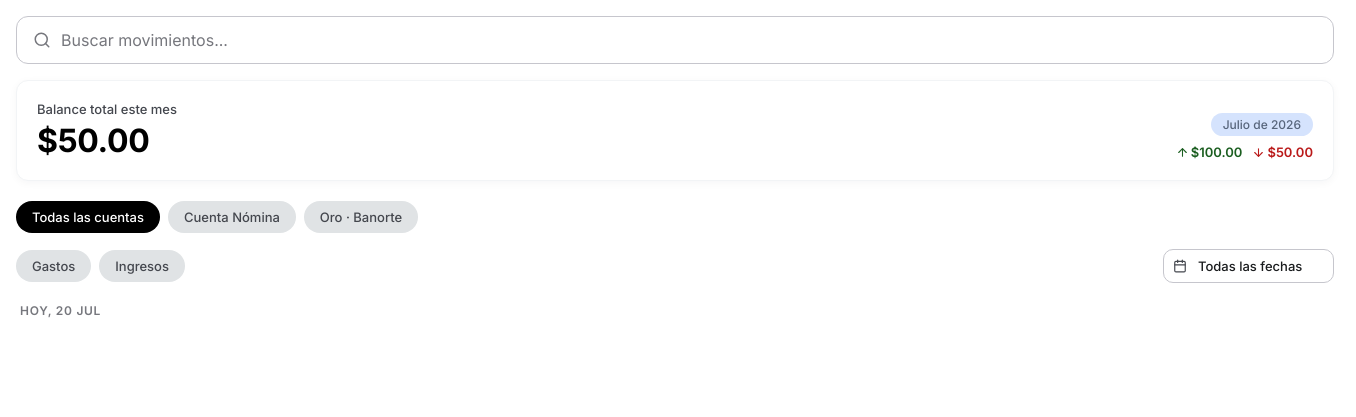
it: HistorialView › filters by Gastos / Ingresos
Step 1. Click the button with test id "historial-chip-tipo-ingresos" → (142, 266), box top-left (99, 250), bottom-right (185, 282)
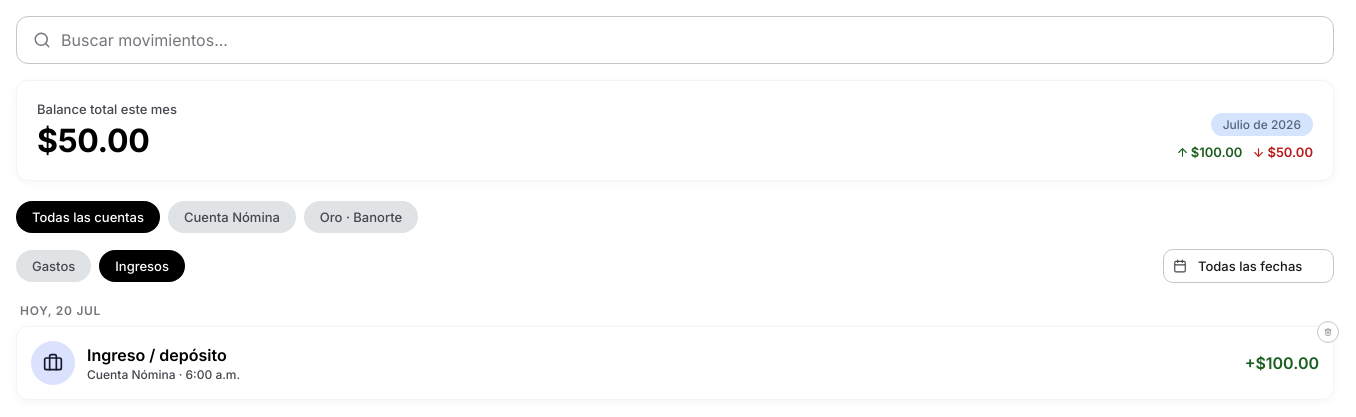
Expected: the text "Ingreso / depósito" is shown, top-left (87, 344), bottom-right (227, 364)
